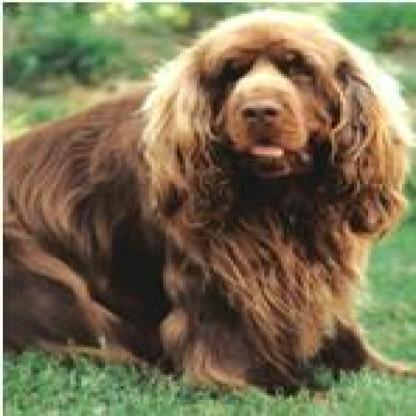Sussex_spaniel: (3, 5, 410, 406)
